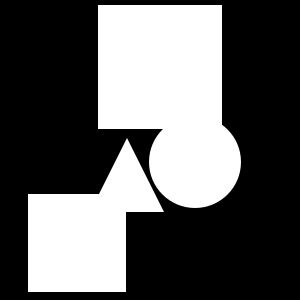circle: (98, 5, 222, 129), (28, 194, 126, 292)
rectangle: (149, 116, 241, 208), (64, 220, 118, 274)
triangle: (90, 138, 164, 212)
